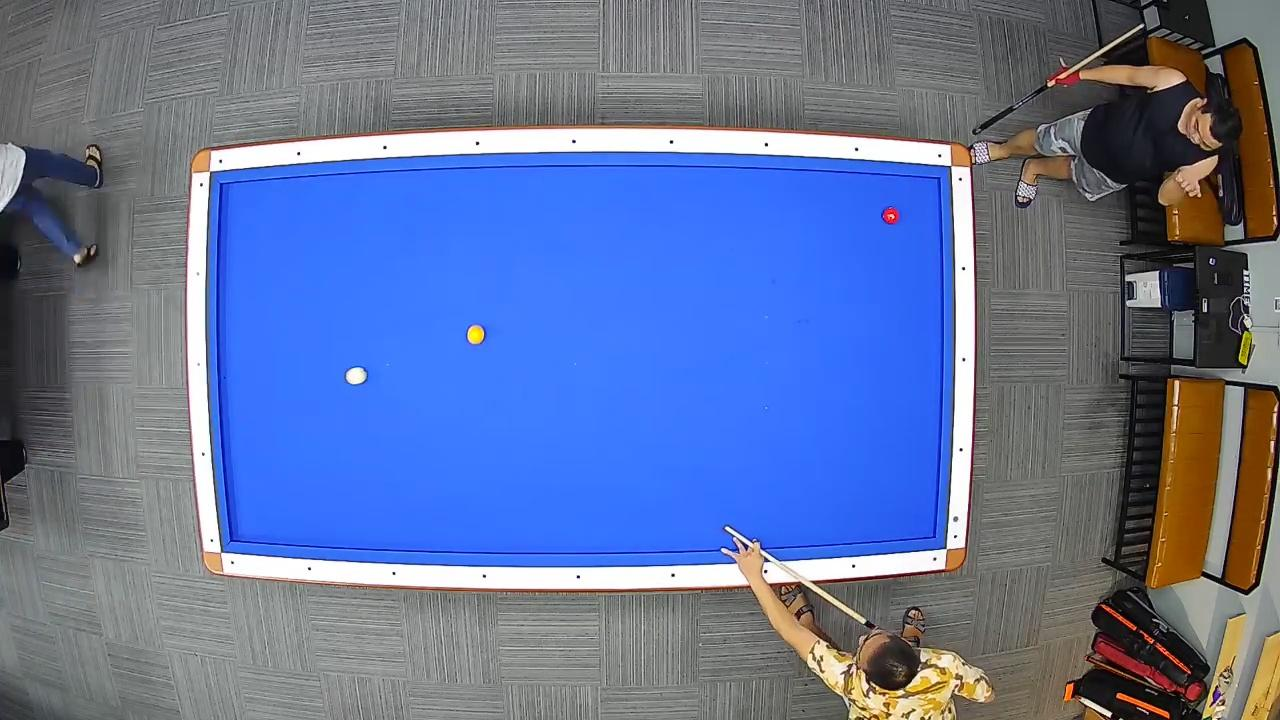Red: (880, 207, 900, 225)
White: (343, 365, 369, 386)
Yellow: (466, 322, 486, 346)
